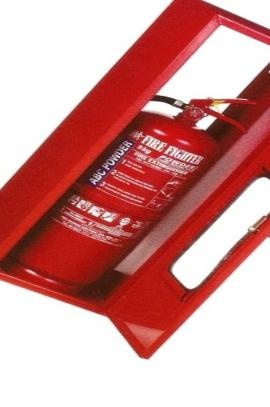fire_extinguisher: (0, 0, 270, 359), (12, 93, 256, 291)
